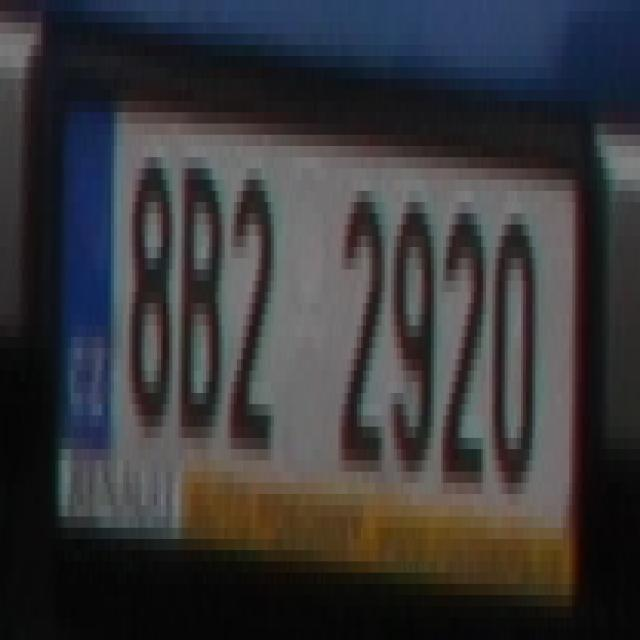0: (489, 190, 542, 516)
2: (437, 191, 486, 494), (335, 180, 388, 460), (228, 168, 277, 460)
8: (130, 135, 176, 438)
9: (388, 191, 440, 483)
B: (178, 146, 222, 438)
